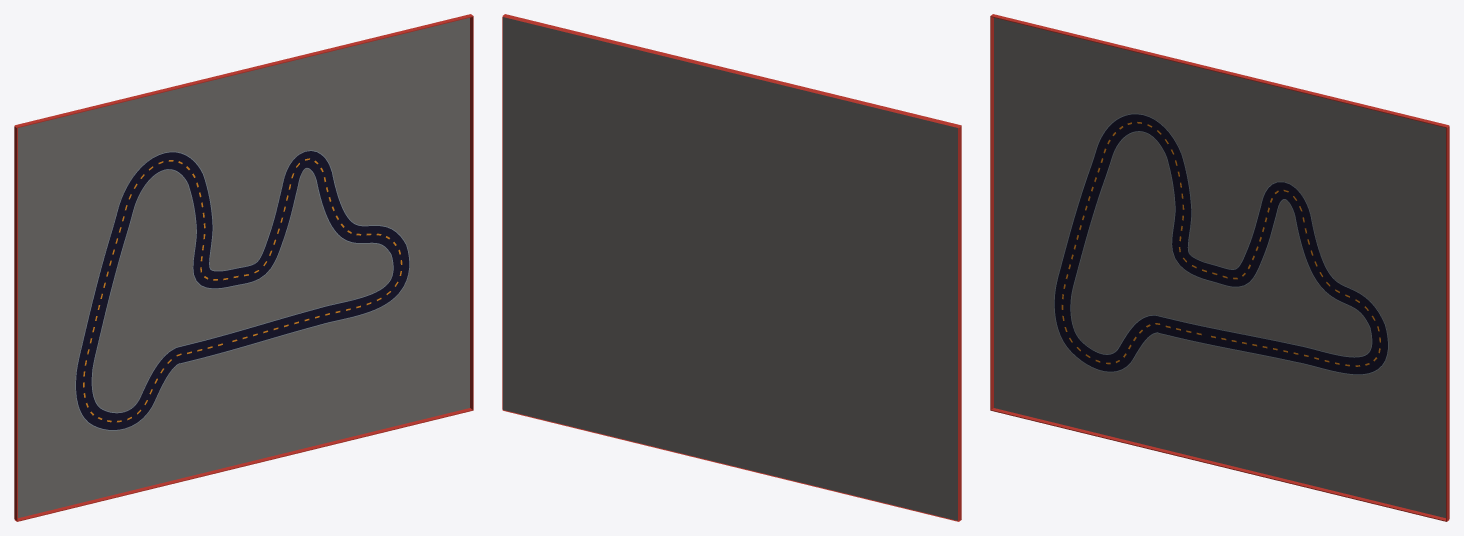
The model's file is track.obj.
3 views of the same model, side by side, from view 1: azimuth 30°, elevation 25°; view 2: azimuth 150°, elevation 25°; view 3: azimuth 330°, elevation 25° (orthographic).
Bounding box in the file's own units: 28.72 × 23.72 × 0.3.
5 materials, 5 textured.
